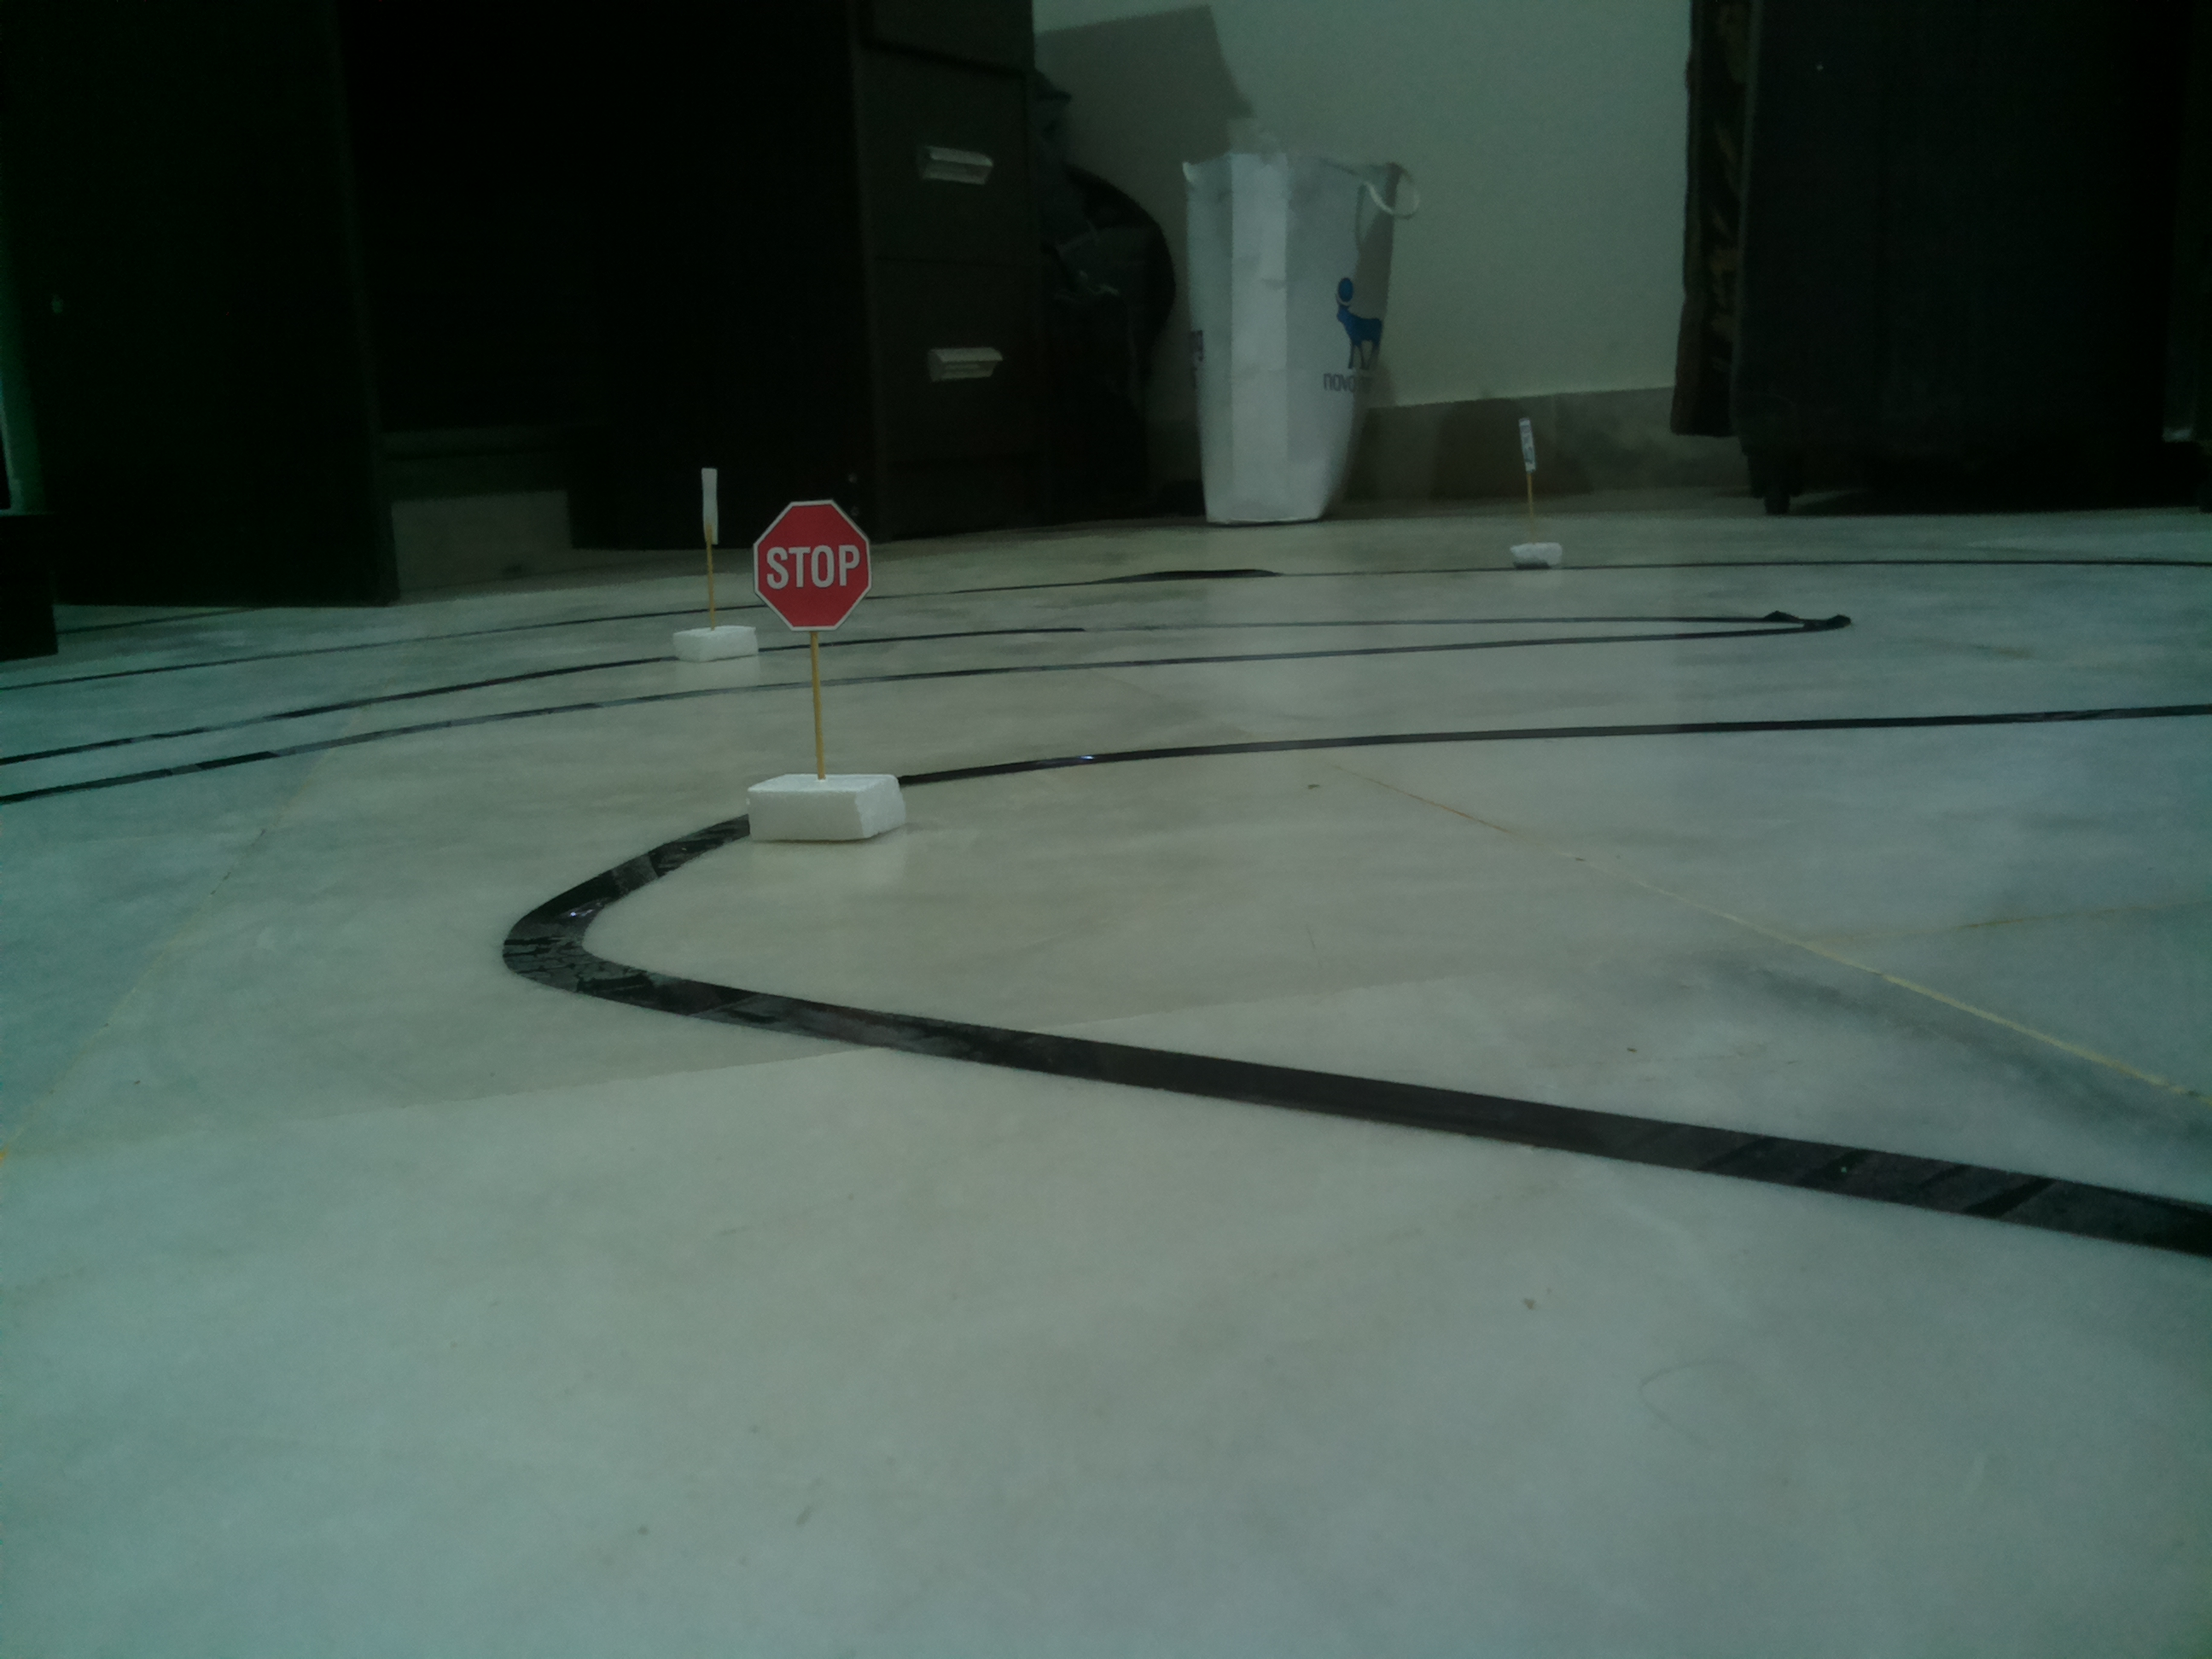Stop sign: (752, 498, 874, 634)
